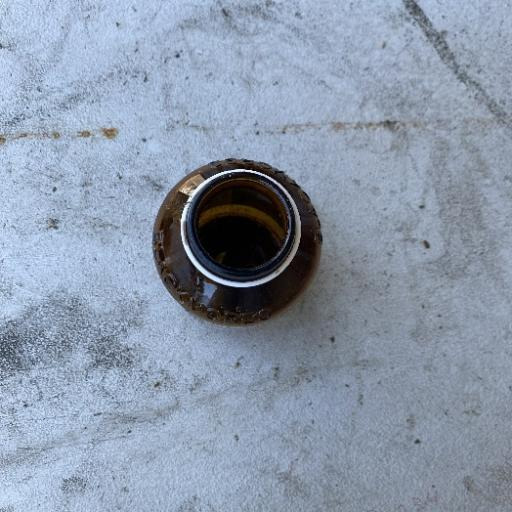Plastic: (150, 156, 324, 328)
